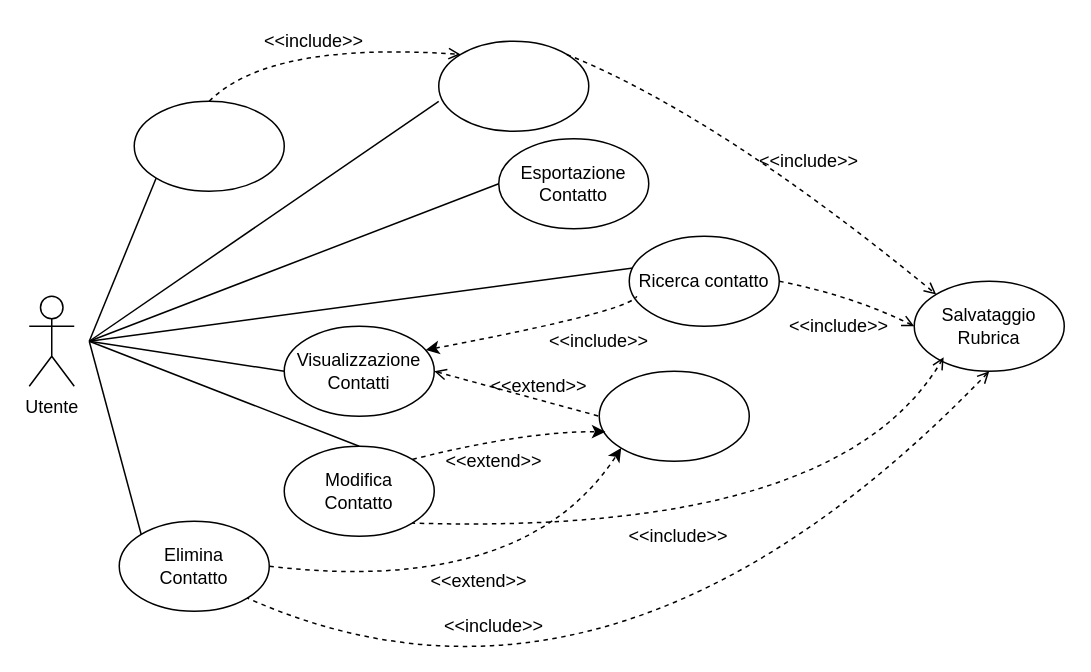
Some shapes in this 1091 by 672 pixel diagram are drawn without their labels. Each missing label, with the centre of its shape:
"Aggiunta Contatto" goes at (x=513, y=85).
"Importazione Contatto" goes at (x=208, y=145).
"Visualizzazione Singolo Contatto" goes at (x=673, y=415).
